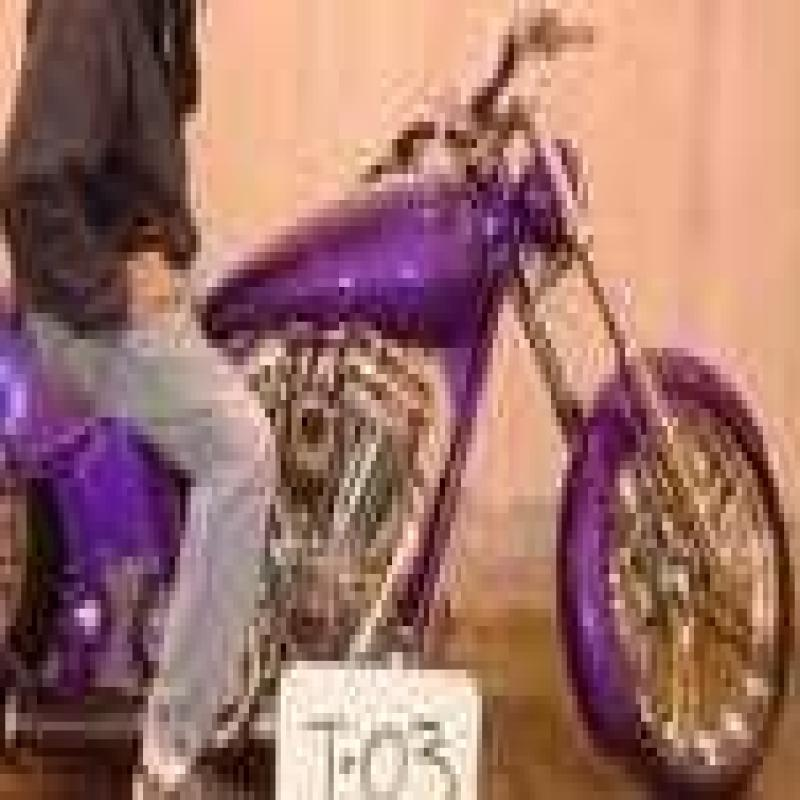bike: (5, 19, 800, 779)
